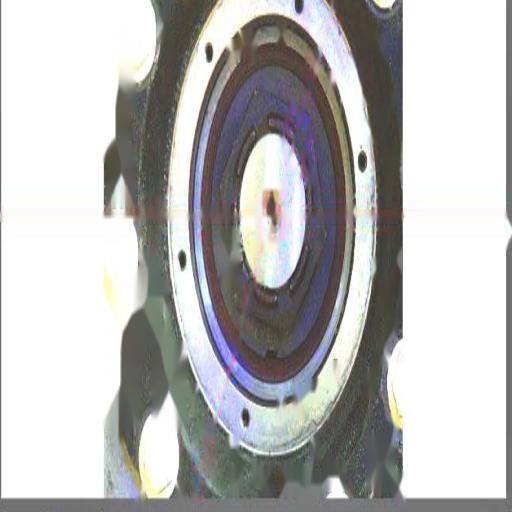center: (264, 193, 278, 224)
notch: (261, 344, 281, 368)
